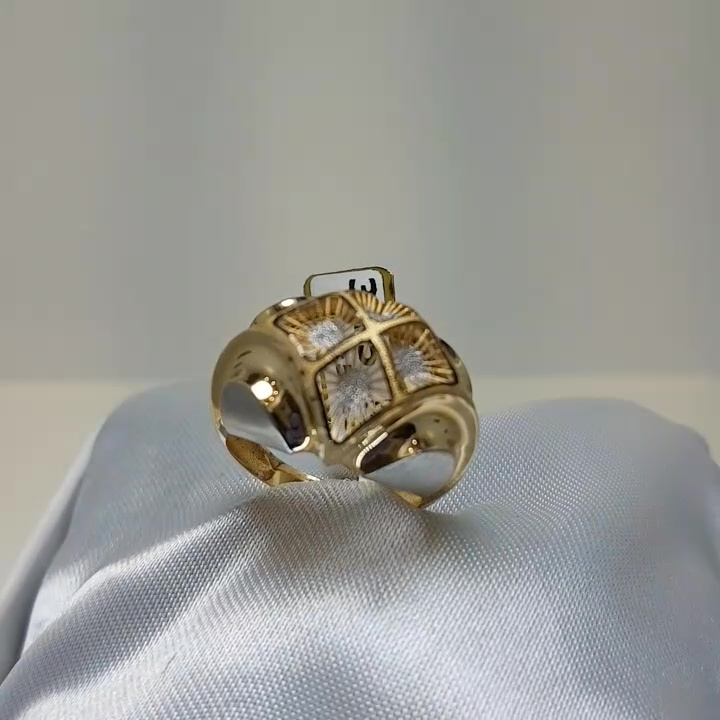Ring 2: (186, 266, 491, 537)
